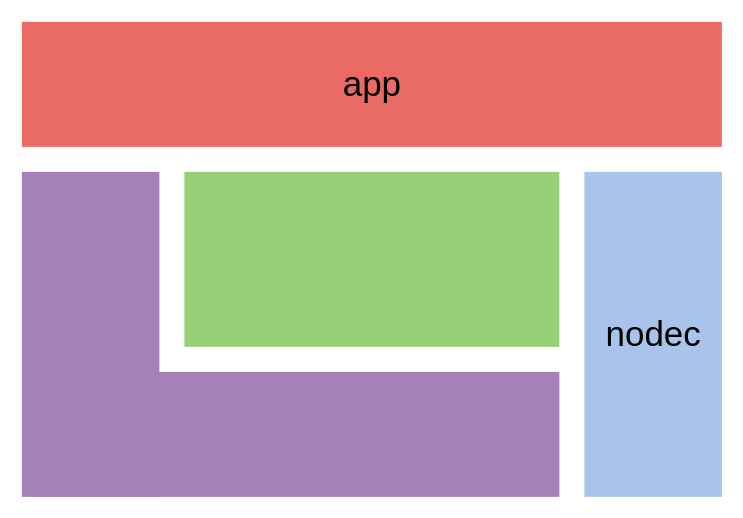
This 743x518 diagram has some shape labels left out. Here are the shapes that lost their labels. From the top down, the box of each, then its label:
(184, 171, 559, 346): module
(34, 371, 559, 496): platform
